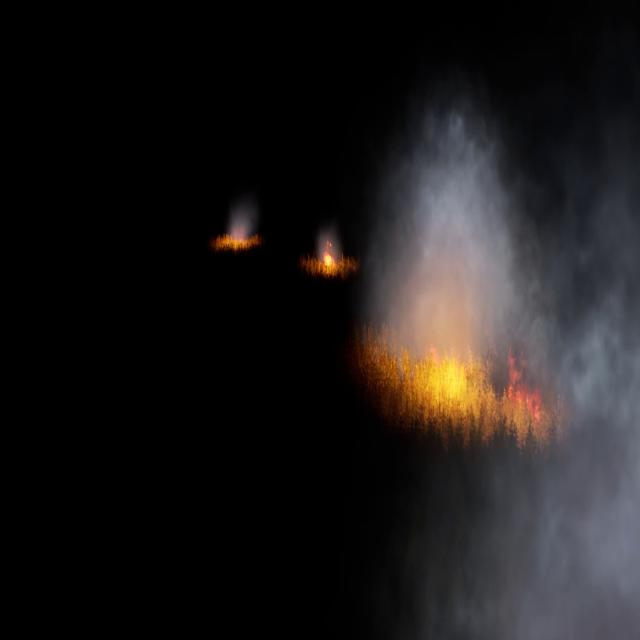fire: (368, 317, 485, 408), (504, 349, 544, 422), (324, 251, 333, 263)
smoke: (364, 66, 640, 639), (317, 226, 340, 263), (229, 208, 254, 238)
